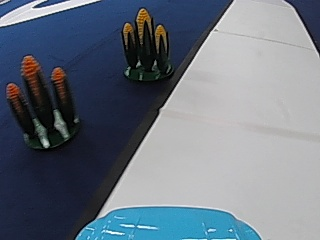corn: (8, 60, 81, 150), (117, 4, 175, 81)
